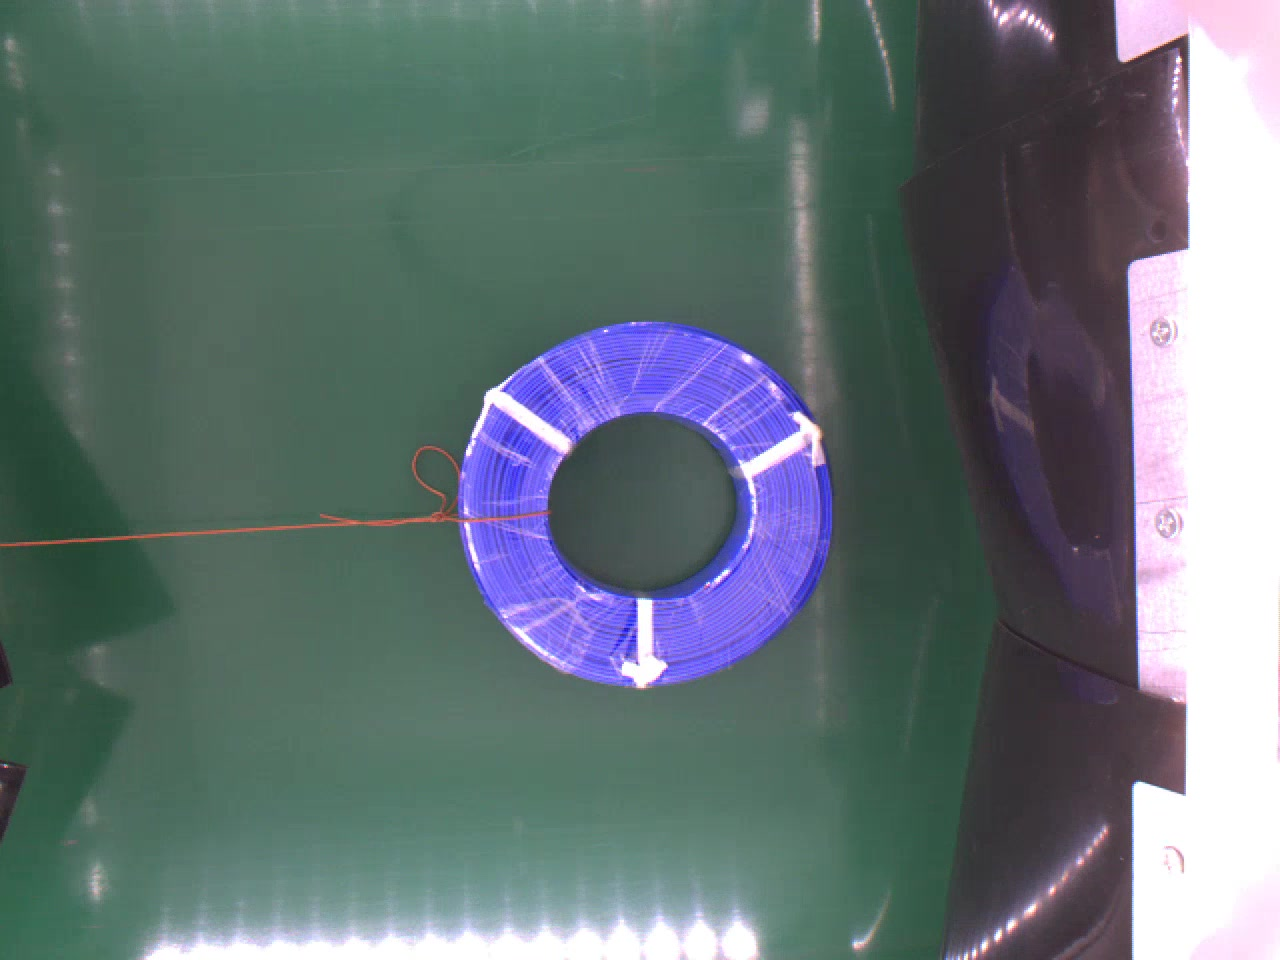blue: (447, 303, 842, 685)
